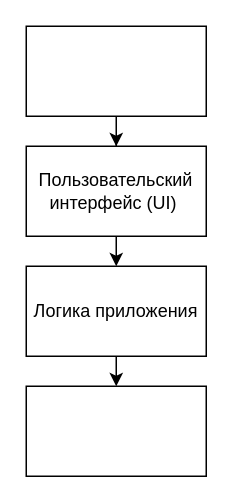
Some shapes in this 233 by 503 pixel diagram are drawn without their labels. The shapes that lost their labels are listed below. From the top down, each one's centre as x and y in pixels, then its label:
At point 115,70: "Пользователь".
At point 115,430: "Локальная БД".
